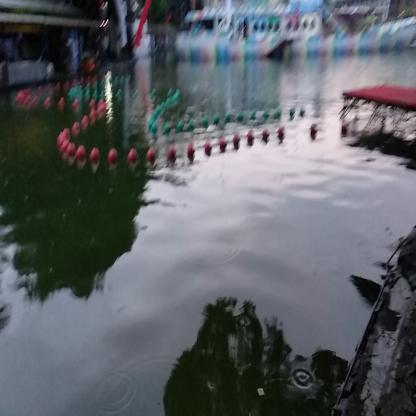green_buoy: (201, 114, 210, 128), (176, 120, 184, 132), (151, 110, 158, 123), (225, 112, 232, 125), (164, 123, 171, 136), (151, 124, 159, 134), (214, 114, 220, 126), (250, 110, 256, 120), (189, 120, 194, 132), (238, 112, 244, 120)
red_buoy: (186, 142, 198, 160), (127, 149, 139, 166), (77, 145, 87, 165), (68, 142, 78, 161), (62, 141, 70, 164), (91, 149, 101, 166), (59, 130, 67, 151), (108, 152, 118, 168), (167, 148, 176, 164), (148, 147, 156, 165), (246, 131, 254, 147), (233, 135, 240, 149), (82, 114, 88, 130), (100, 104, 107, 117), (72, 123, 79, 136), (261, 130, 268, 143), (206, 142, 213, 155), (91, 108, 97, 123), (220, 137, 225, 150)
